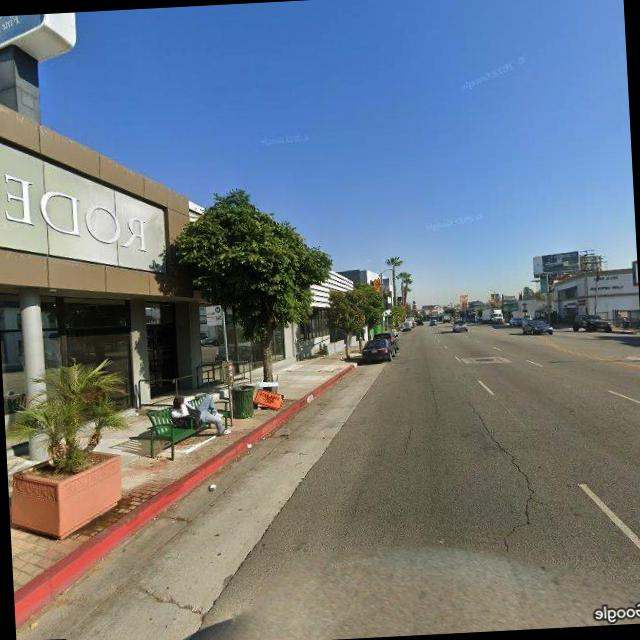pothole: (469, 396, 544, 555), (402, 422, 418, 455)
